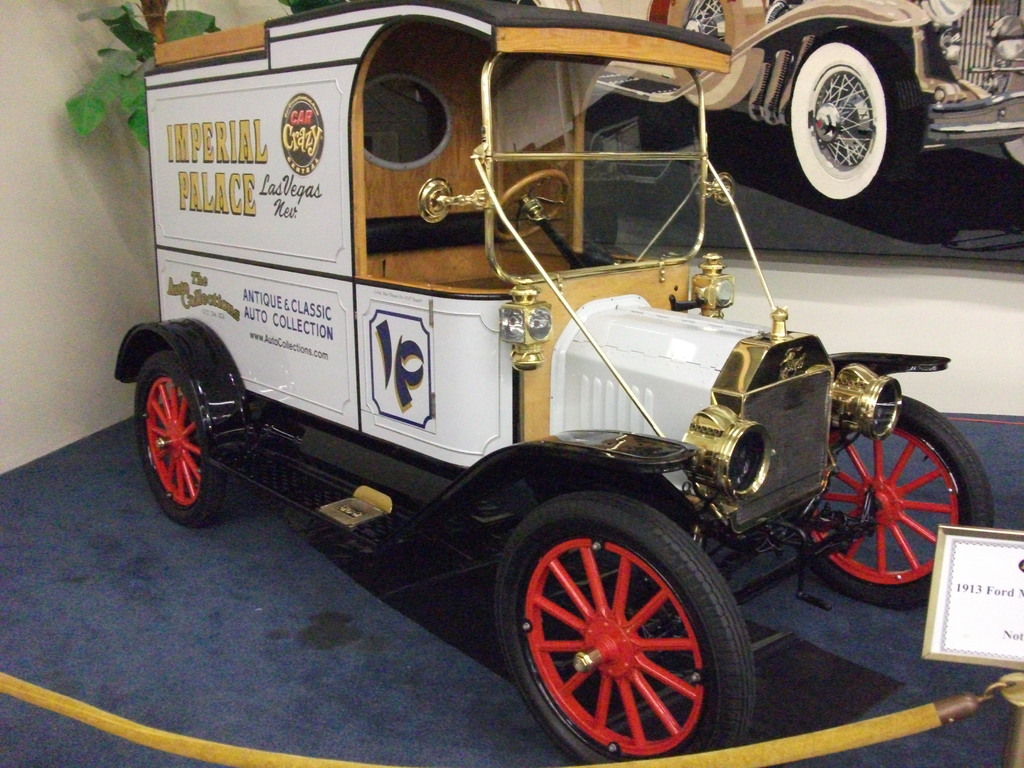Car: (107, 19, 981, 764), (650, 0, 1023, 206)
